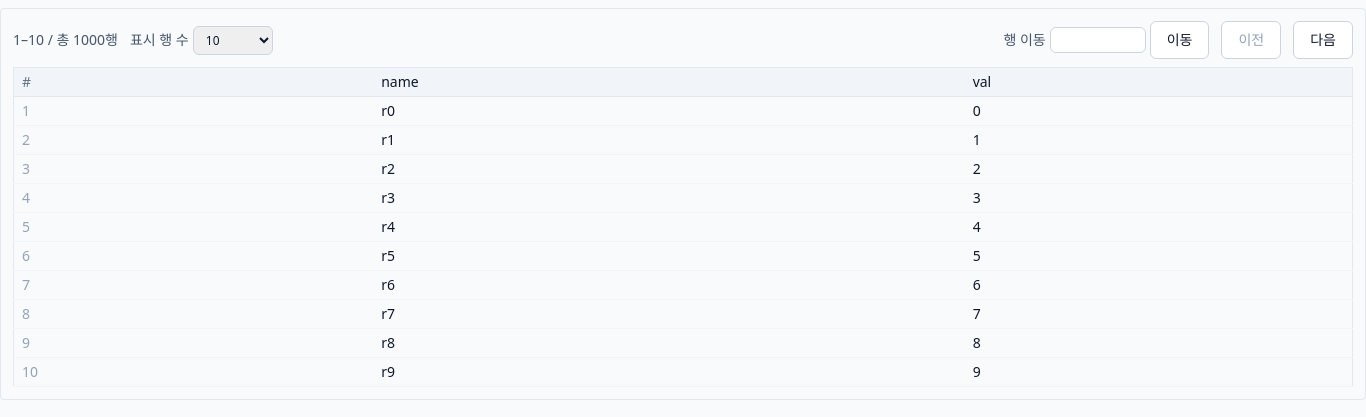
it: DatasetRowsPreview › 페이지 전환 중(placeholder) 이전/다음 둘 다 disabled (R5)
Click the button "다음" at (1323, 40), box [1293, 21, 1353, 59]
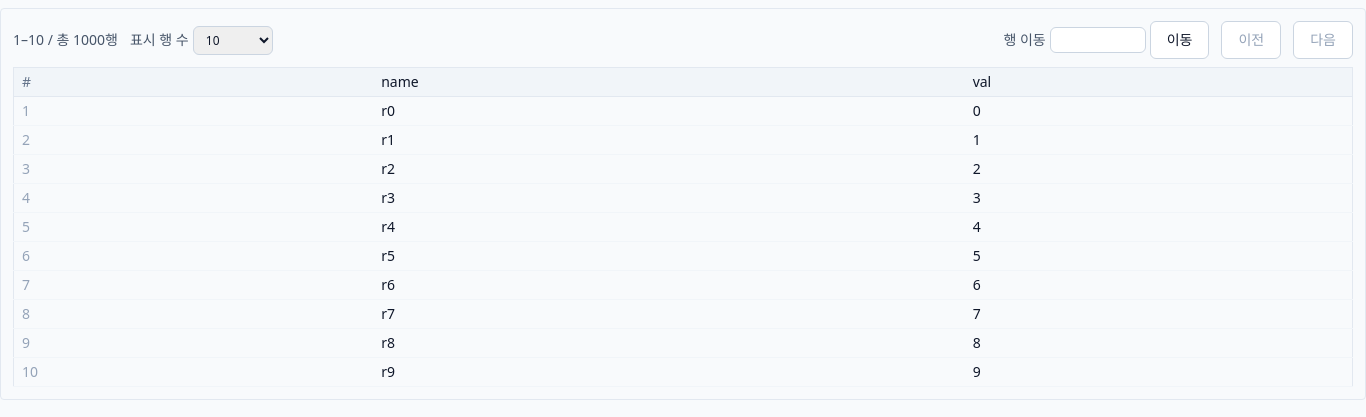
Expected: the button "이전" is disabled, [1222, 21, 1281, 59]
Result: the button "다음" is disabled at [1293, 21, 1353, 59]
